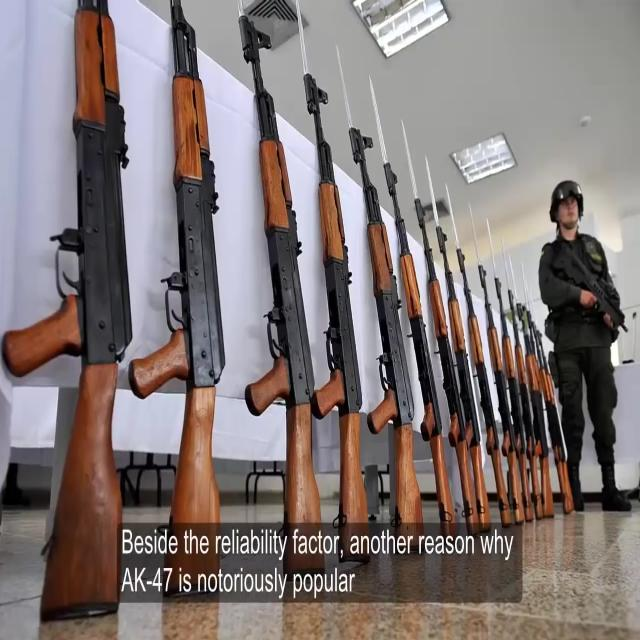Weapon: (342, 33, 458, 563), (238, 3, 330, 621), (406, 136, 526, 576), (291, 16, 382, 596), (47, 0, 129, 640), (156, 0, 239, 623), (434, 174, 544, 542), (479, 246, 542, 534), (496, 266, 556, 523), (522, 298, 568, 520), (557, 238, 636, 334), (540, 316, 574, 522)
